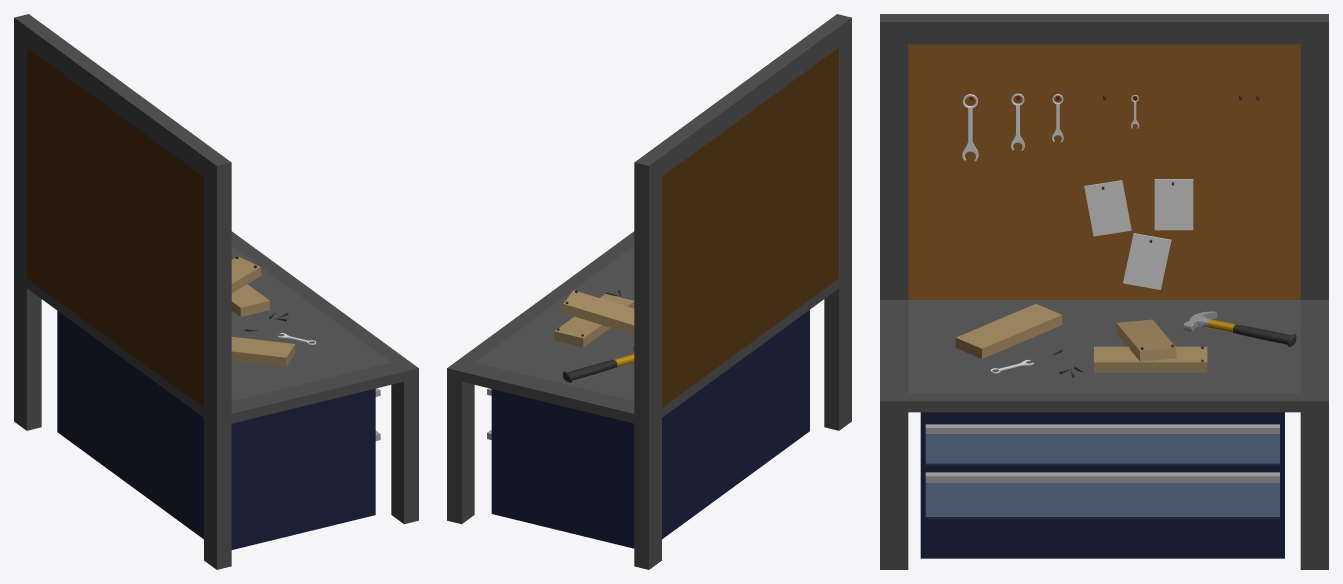
The model's file is Proto_WorkBench.fbx.
3 renders of one model, left to right at view 1: azimuth 30°, elevation 25°; view 2: azimuth 150°, elevation 25°; view 3: azimuth 270°, elevation 25°, orthographic. The views are drawn at different scales.
Visible parts, largest first — view 1: WorkBench; view 2: WorkBench; view 3: WorkBench.
Part boxes in pixels (x1=…): WorkBench: x1=14, y1=14, x2=418, y2=569; WorkBench: x1=447, y1=14, x2=851, y2=569; WorkBench: x1=880, y1=14, x2=1328, y2=569.
Size of the model in its own units: 2.27 by 4.36 by 3.95.
